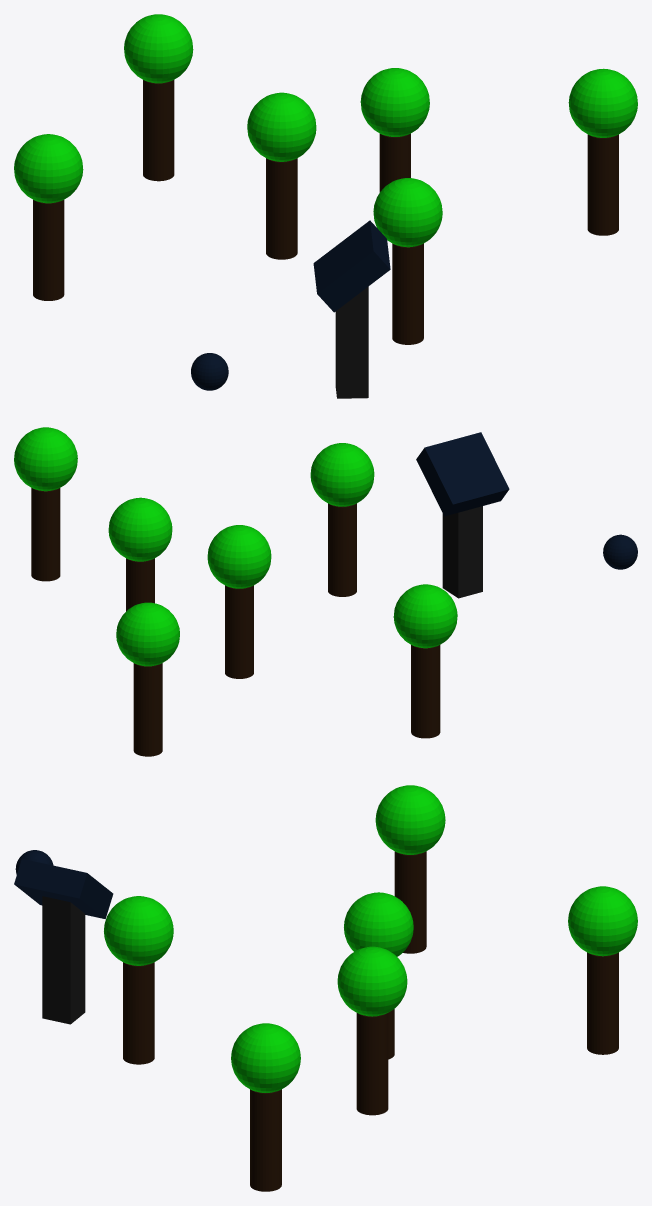
The model's file is exercise20058.obj.
3 views of the same model, one above another, from view 1: azimuth 30°, elevation 25°; view 2: azimuth 150°, elevation 25°; view 3: azimuth 270°, elevation 25° (orthographic). The views are drawn at different scales.
Parts seen in each view (by area): view 1: Cube.001, Sphere.005, Sphere.002, Sphere.006, Sphere, Sphere.003, Sphere.004, Cube, Cylinder.002, Cylinder.003, Cylinder.005, Cylinder.004 (+4 smaller); view 2: Cube.001, Cube, Sphere, Sphere.005, Sphere.006, Sphere.003, Sphere.004, Sphere.002, Cylinder.003, Cylinder.005, Cylinder.006, Cylinder.002 (+4 smaller); view 3: Cube, Sphere, Sphere.006, Sphere.004, Sphere.005, Sphere.003, Sphere.002, Cube.001, Cylinder.004, Cylinder.003, Cylinder.005, Cylinder (+2 smaller).
Part boxes in pixels (<box>): Cube.001: <box>313,220,390,312</box>; Sphere.005: <box>124,14,193,83</box>; Sphere.002: <box>247,92,316,161</box>; Sphere.006: <box>14,134,83,203</box>; Sphere: <box>360,68,429,136</box>; Sphere.003: <box>568,68,637,137</box>; Sphere.004: <box>373,178,442,247</box>; Cube: <box>335,286,368,398</box>; Cylinder.002: <box>266,158,297,259</box>; Cylinder.003: <box>587,134,618,235</box>; Cylinder.005: <box>143,80,174,181</box>; Cylinder.004: <box>392,243,423,344</box>; Cube.001: <box>416,432,509,516</box>; Cube: <box>442,506,482,598</box>; Sphere: <box>108,497,172,561</box>; Sphere.005: <box>116,602,179,666</box>; Sphere.006: <box>393,584,457,648</box>; Sphere.003: <box>14,427,77,491</box>; Sphere.004: <box>310,443,374,506</box>; Sphere.002: <box>207,525,271,588</box>; Cylinder.003: <box>31,488,60,581</box>; Cylinder.005: <box>133,663,162,756</box>; Cylinder.006: <box>411,645,440,738</box>; Cylinder.002: <box>225,585,253,678</box>; Cube: <box>42,896,85,1024</box>; Sphere: <box>337,946,407,1016</box>; Sphere.006: <box>375,785,445,854</box>; Sphere.004: <box>104,896,173,965</box>; Sphere.005: <box>568,886,637,956</box>; Sphere.003: <box>231,1023,300,1092</box>; Sphere.002: <box>344,892,413,956</box>; Cube.001: <box>14,859,113,919</box>; Cylinder.004: <box>123,962,154,1064</box>; Cylinder.003: <box>250,1089,281,1191</box>; Cylinder.005: <box>587,952,618,1054</box>; Cylinder: <box>356,1013,388,1114</box>.
Size of what is drawn, in the model's own units: 40.53 by 11.23 by 39.13.
